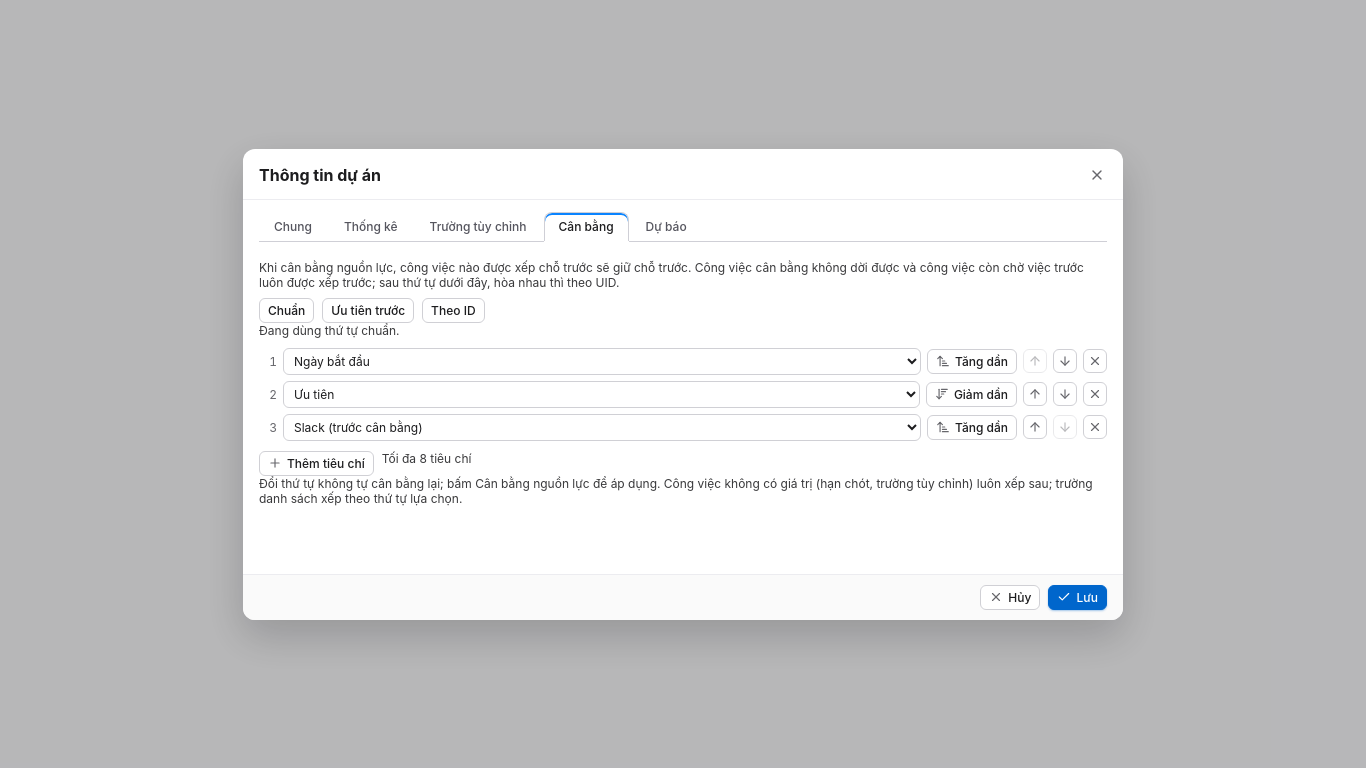
Test case: Leveling tab › builds each change on the one before it, even before the answer comes back
The width and height of the screenshot is (1366, 768).
Click the button named "Đưa “Ngày bắt đầu” xuống" at (1065,361), box [1053,349,1077,373]
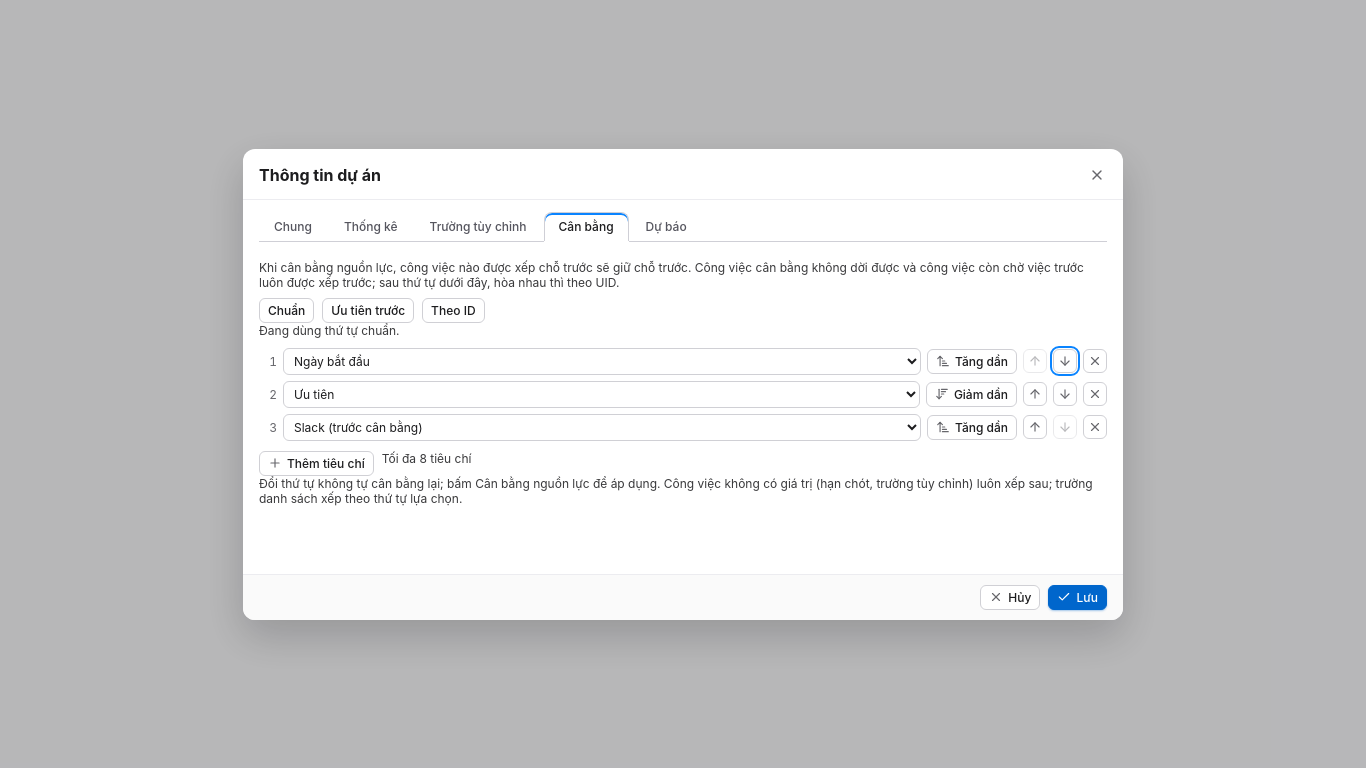
Click the button with aria-label "Tăng dần: Slack (trước cân bằng)" at (972,427), box [927,414,1017,440]
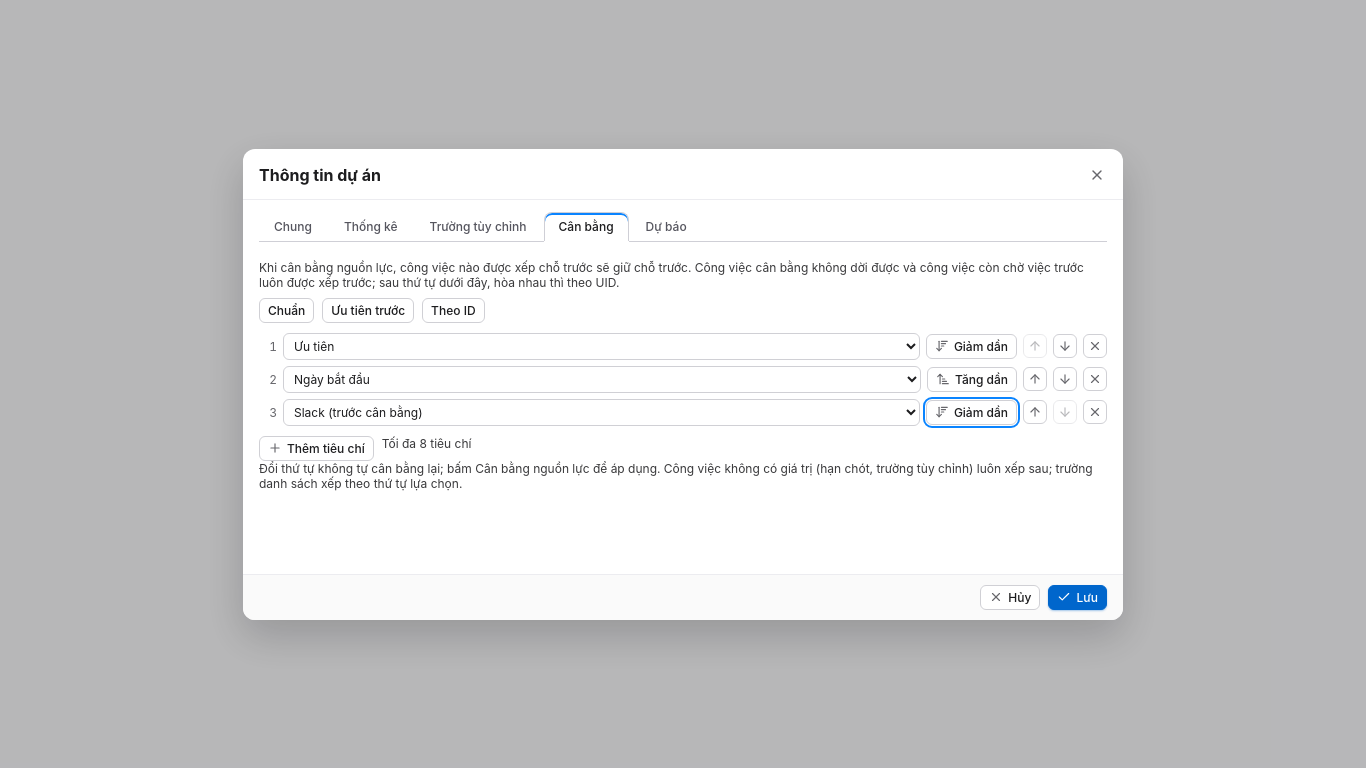
Check: the text "Đang dùng thứ tự chuẩn." is gone
Select "Mảng" in the dropdown named "Tiêu chí 1" at (601,346), box [283,332,920,360]
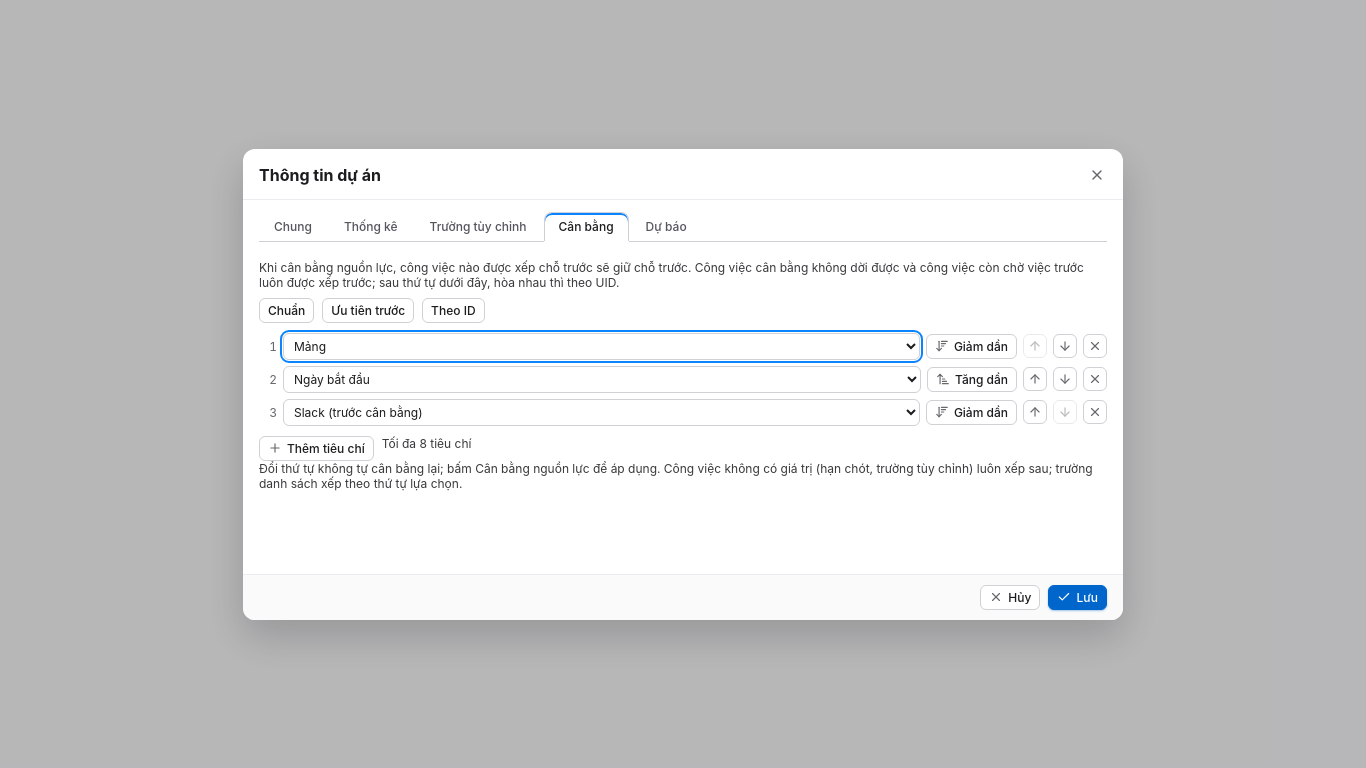
Check: the dropdown named "Tiêu chí 1" shows "Mảng", box [283,332,920,360]
